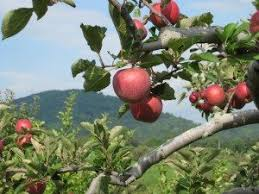apple: (110, 69, 154, 102), (129, 95, 164, 125), (148, 4, 179, 28), (204, 86, 227, 106), (235, 83, 253, 105), (14, 118, 32, 138)
